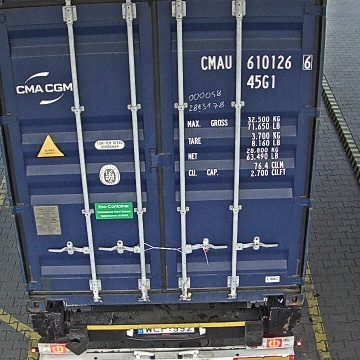serial_id: (201, 55, 312, 69)
